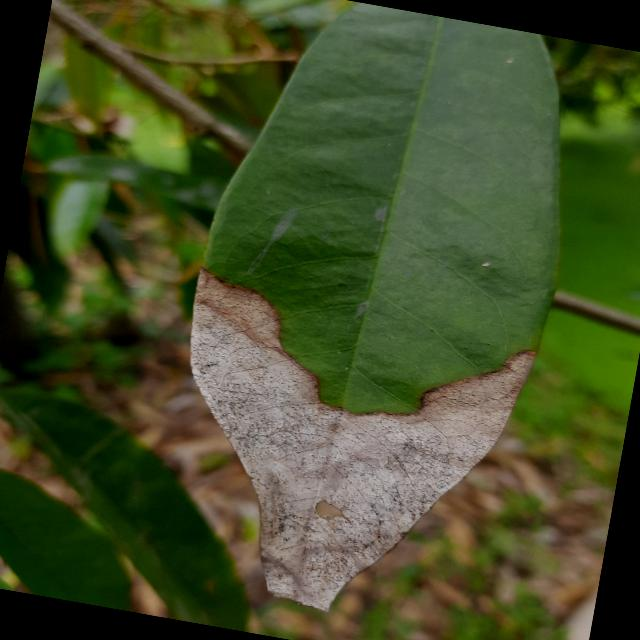Leaf Blight: (138, 0, 604, 639)
